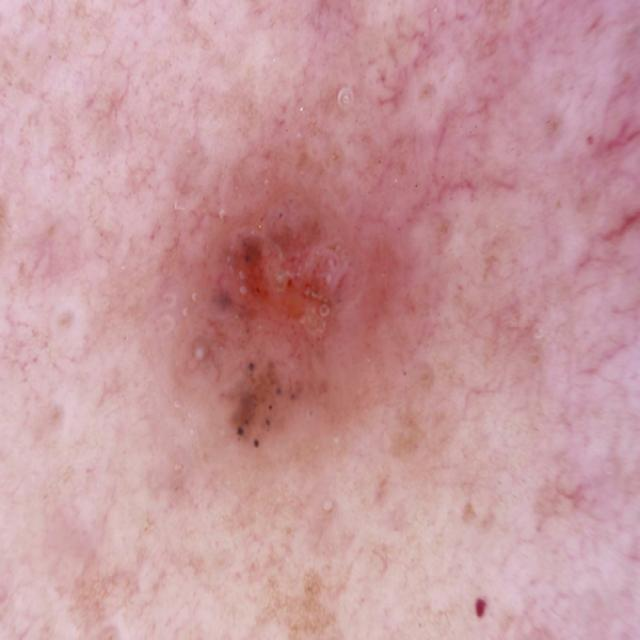Skin-Cancer Basal cell carcinoma: (36, 0, 598, 640)
